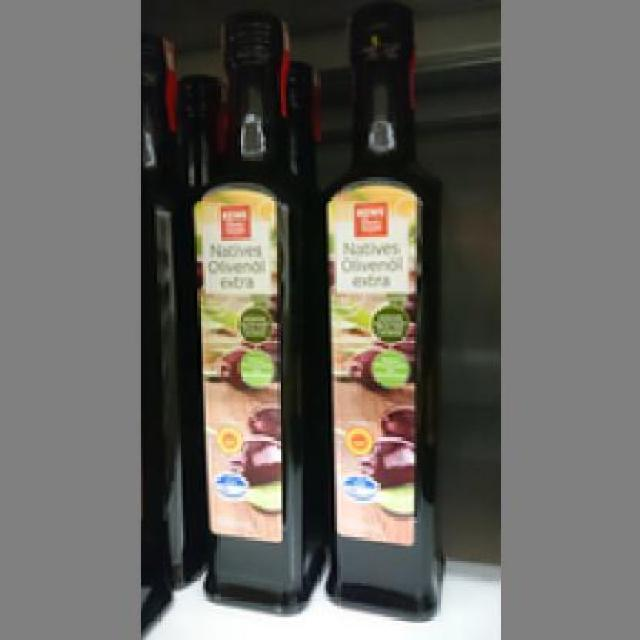Oil: (192, 19, 320, 612), (323, 14, 446, 617)
